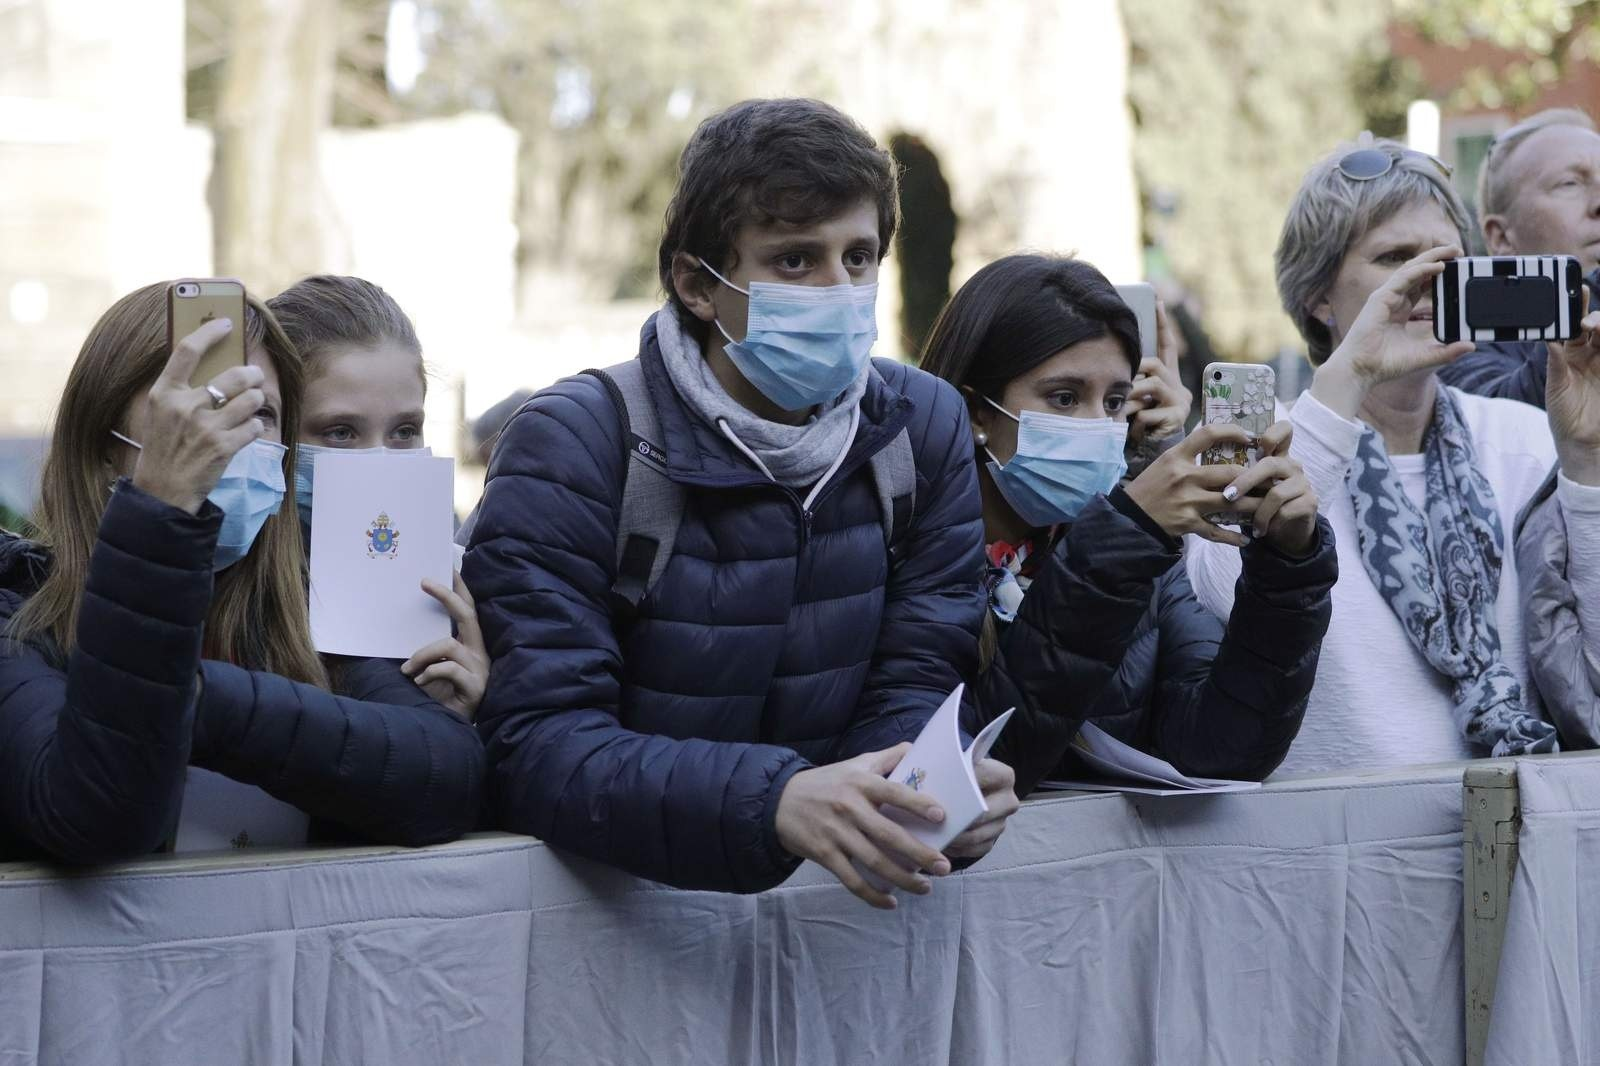face_no_mask: (1299, 153, 1480, 374), (1483, 112, 1598, 270)
face_with_mask: (661, 101, 895, 412), (80, 287, 300, 575), (944, 257, 1143, 517), (272, 276, 427, 519)
